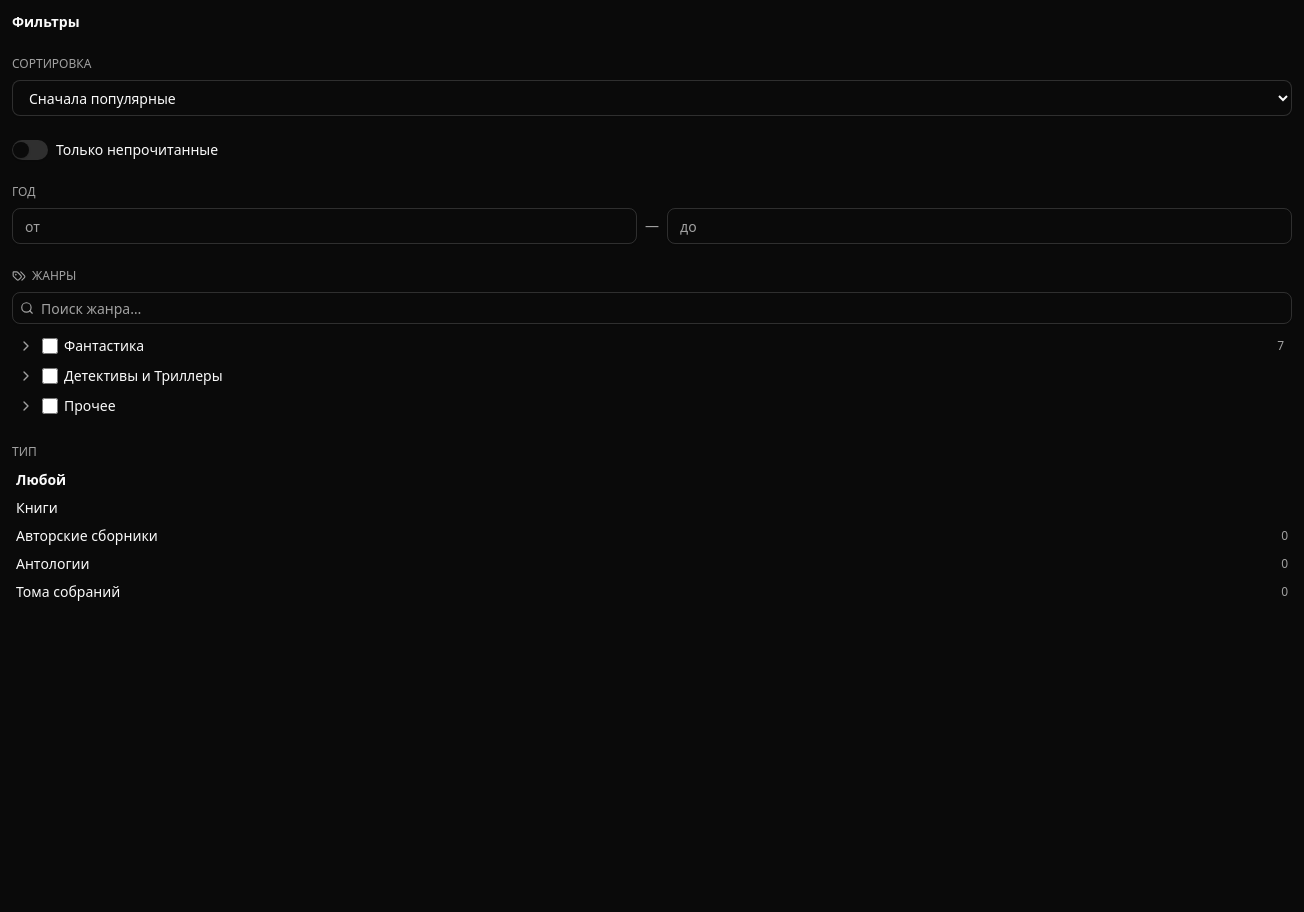
Test: FiltersSidebar › clicking category expands it; leafs become visible
The width and height of the screenshot is (1304, 912).
Expected: the button "Фантастика" is shown, [64,336,1271,356]
Click the 1st button named "Развернуть": (26,346) [16,336,36,356]
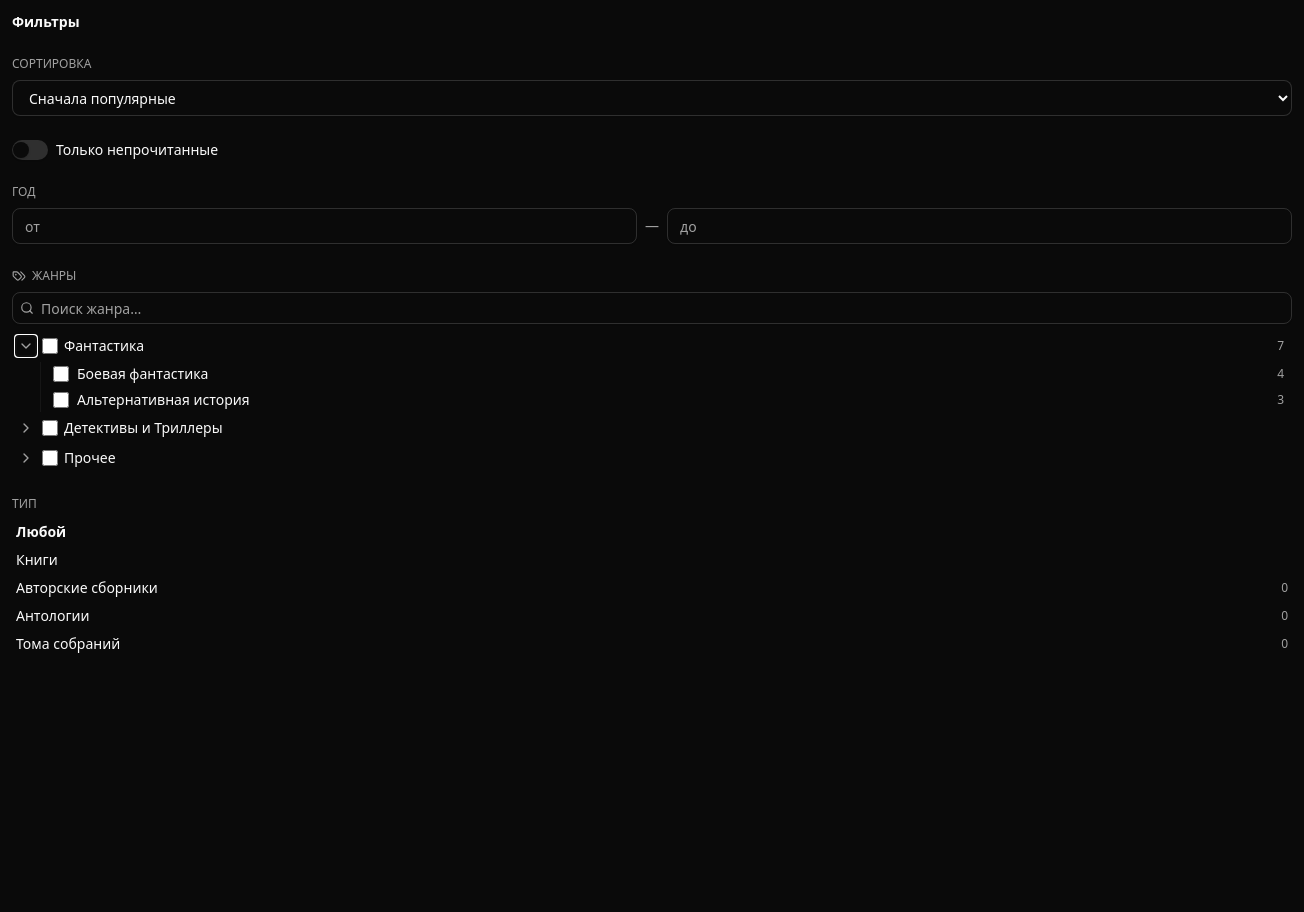
Now the text "Боевая фантастика" is shown, box [77,364,208,383]
Now the text "Альтернативная история" is shown, box [77,390,250,409]
